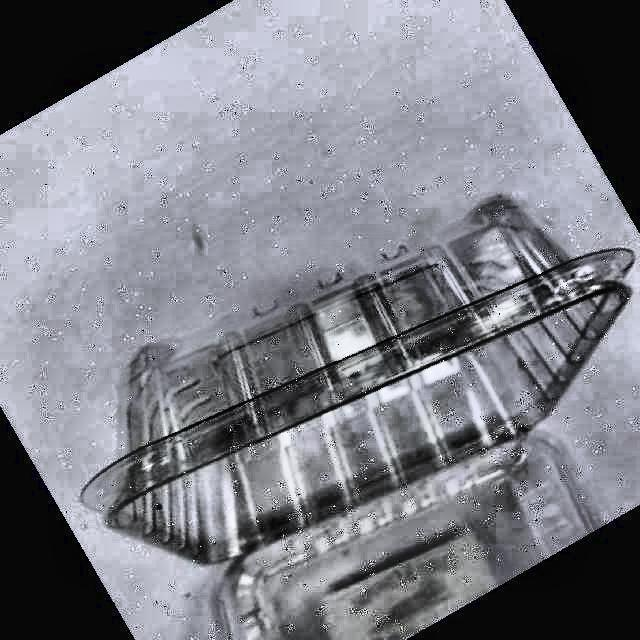plastic: (82, 196, 632, 640)
